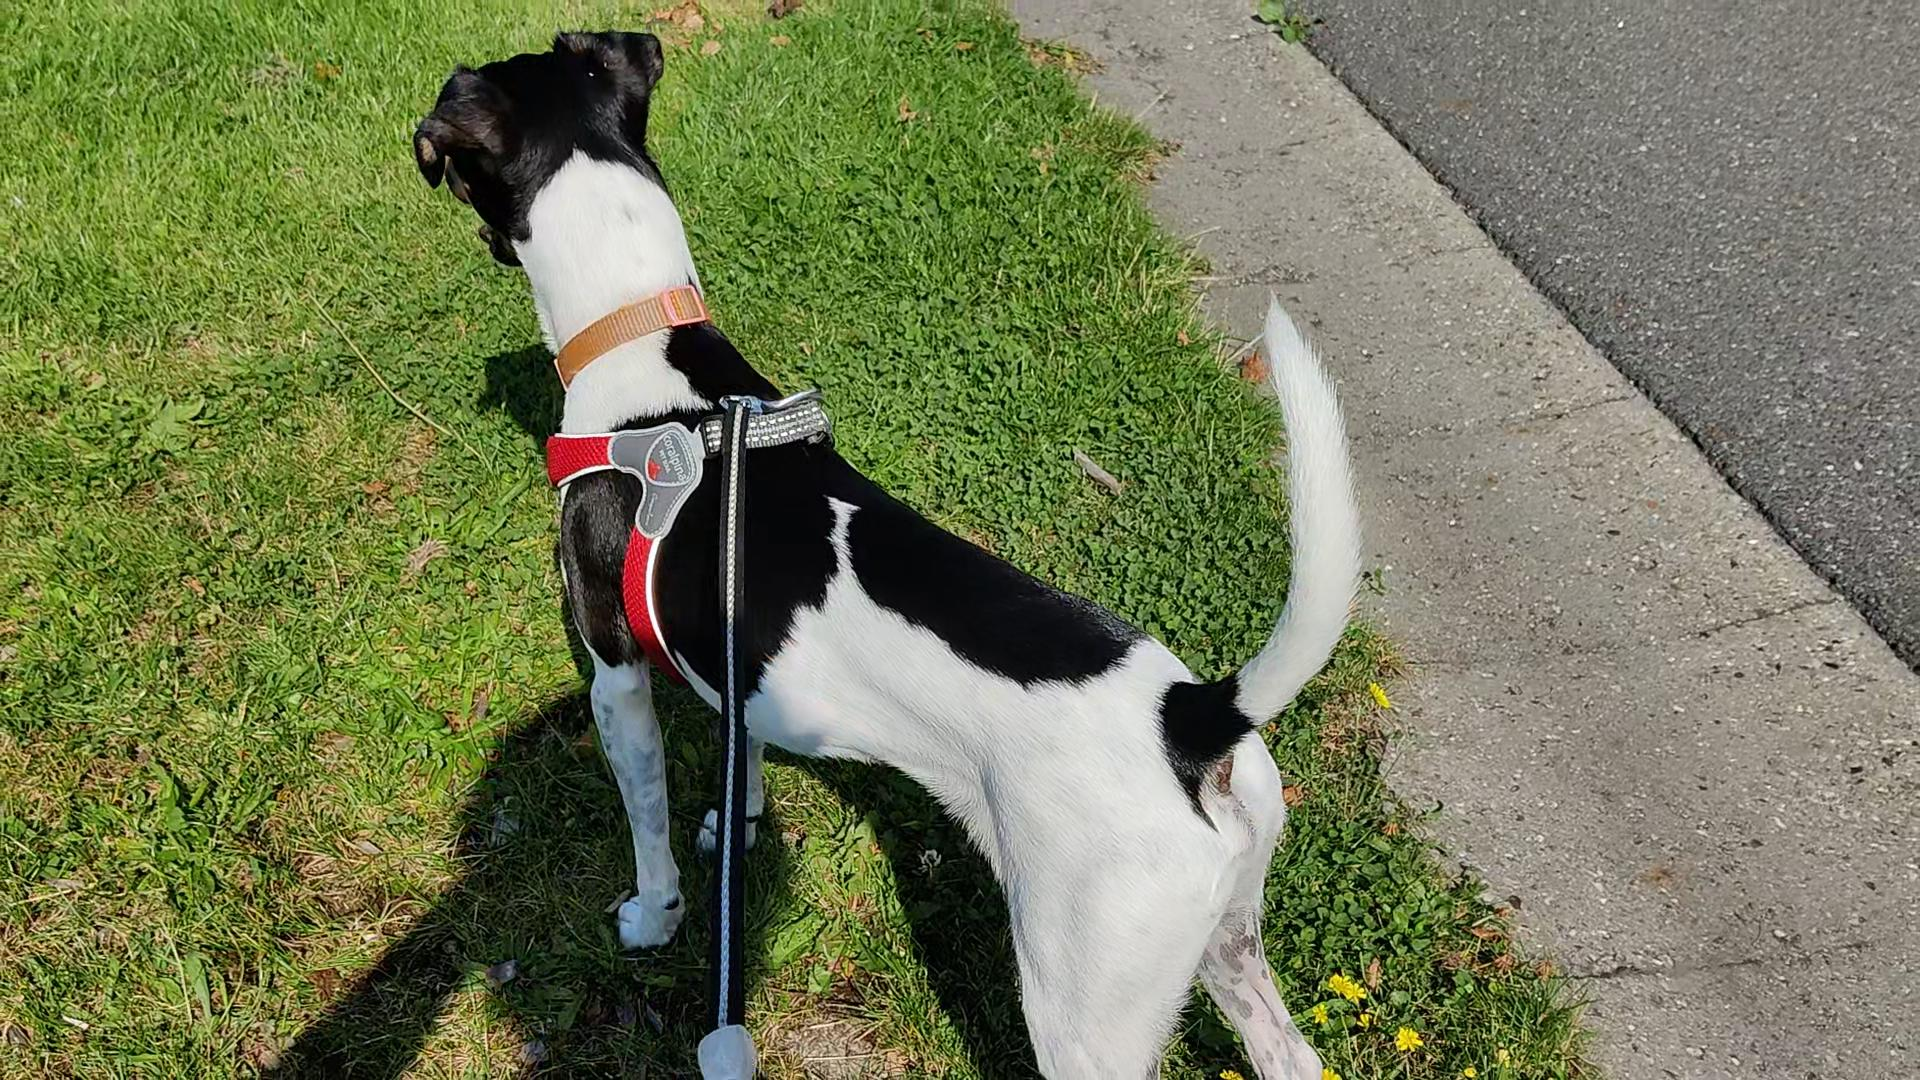Dog: (407, 22, 1373, 1079)
